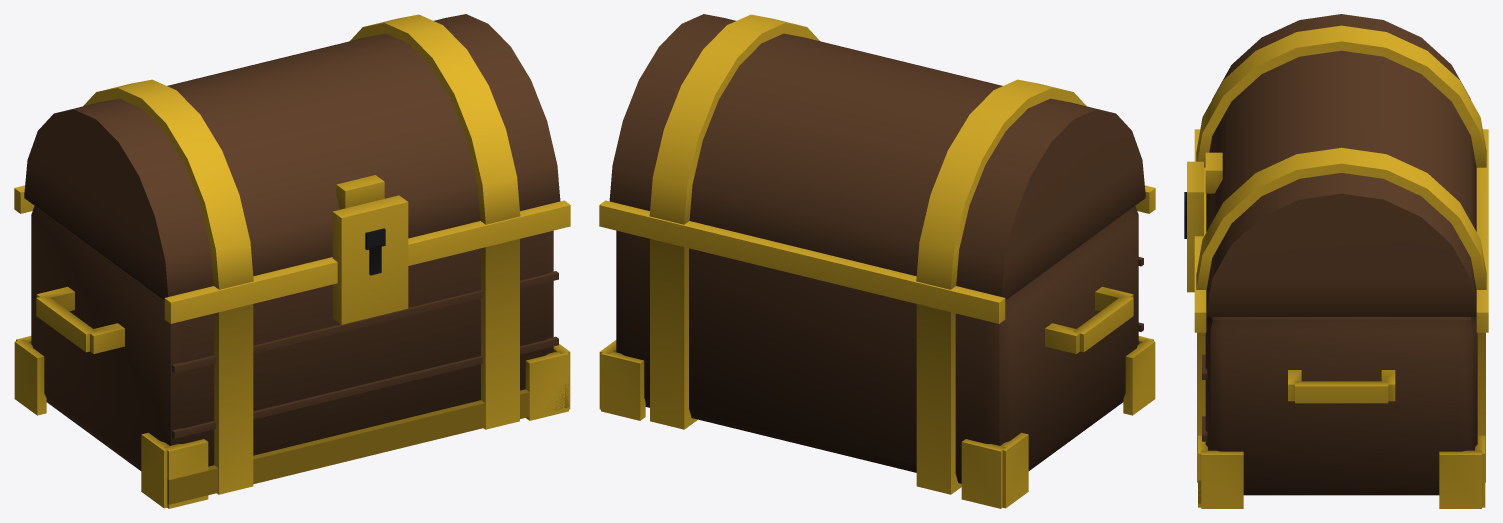
Rendered from treasure-chest.glb.
The picture shows the model from 3 angles, left to right: view 1: azimuth 30°, elevation 25°; view 2: azimuth 150°, elevation 25°; view 3: azimuth 270°, elevation 25°; orthographic projection. The views are drawn at different scales.
Parts seen in each view (by area): view 1: wood, gold, keyhole; view 2: wood, gold; view 3: wood, gold.
Boxes of the visible parts, bbox=[...] form: wood: bbox=[24, 14, 560, 470]; gold: bbox=[14, 14, 570, 508]; keyhole: bbox=[365, 228, 385, 275]; wood: bbox=[609, 14, 1145, 483]; gold: bbox=[599, 14, 1155, 508]; wood: bbox=[1202, 14, 1477, 495]; gold: bbox=[1187, 25, 1488, 508].
Bounding box in the file's own units: 0.59 × 0.417 × 0.358.
